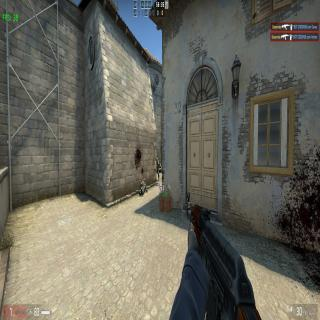CT-Body: (156, 158, 160, 182)
CT-Head: (156, 158, 158, 164)
